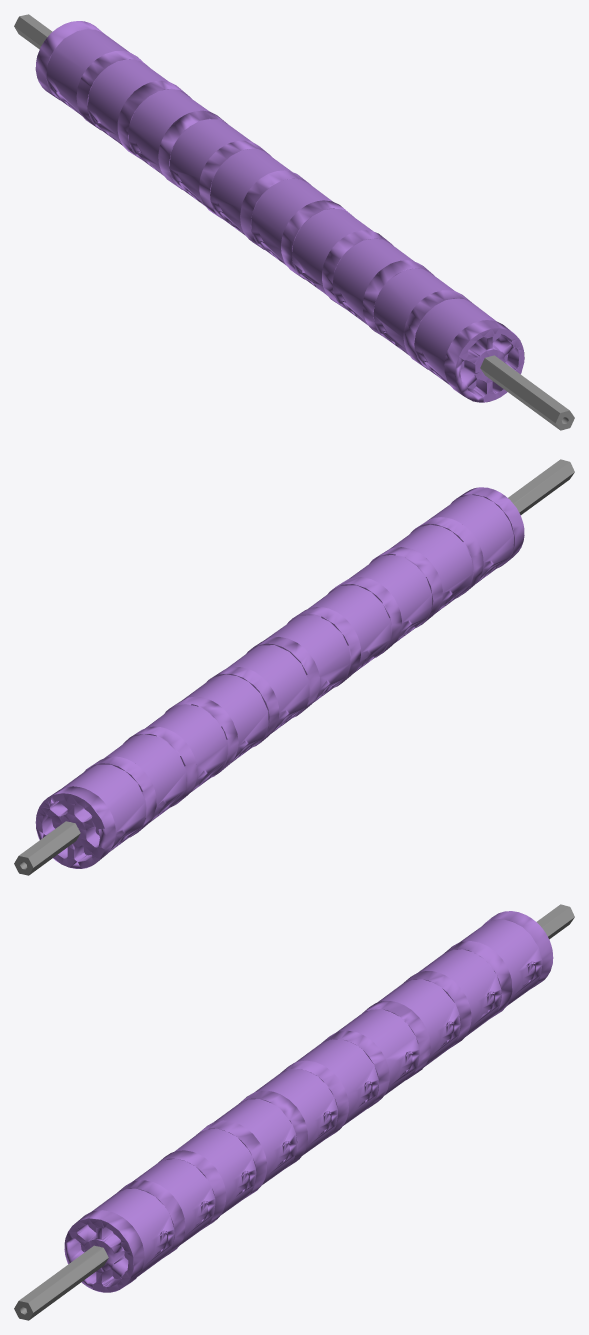
The model's file is PurpleIntakeWheels.dae.
3 views of the same model, one above another, from view 1: azimuth 30°, elevation 25°; view 2: azimuth 150°, elevation 25°; view 3: azimuth 330°, elevation 25° (orthographic).
Visible parts, largest first — view 1: PurpleIntakeWheels; view 2: PurpleIntakeWheels; view 3: PurpleIntakeWheels.
Part boxes in pixels (<box>): PurpleIntakeWheels: <box>14,14,574,430</box>; PurpleIntakeWheels: <box>14,459,574,875</box>; PurpleIntakeWheels: <box>14,904,574,1320</box>.
Size of the model in its own units: 0.0509 by 0.6731 by 0.0509.
